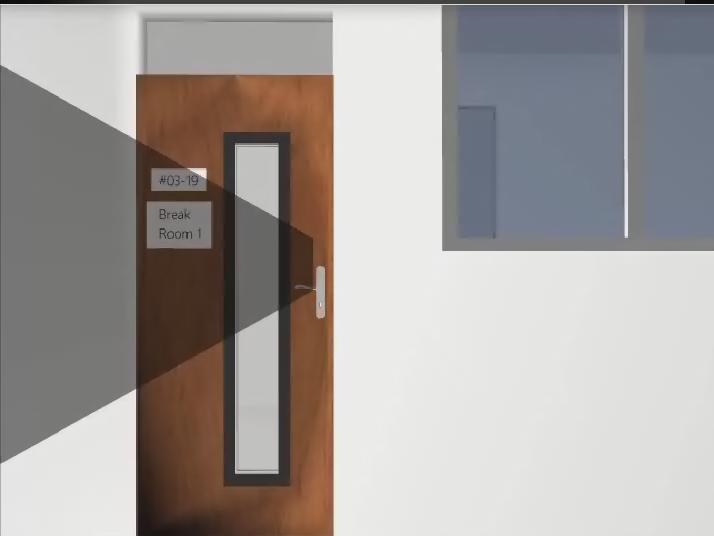door: (136, 74, 334, 536)
